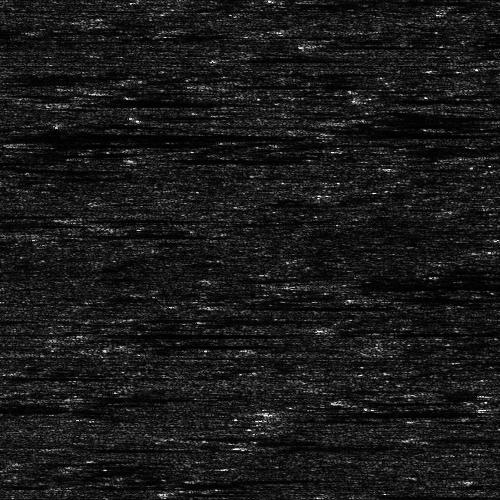rock: (269, 279, 374, 286), (0, 128, 48, 141), (431, 150, 494, 159), (318, 114, 359, 125), (30, 446, 93, 451), (274, 410, 327, 415), (263, 443, 294, 448), (84, 330, 115, 333), (89, 99, 100, 104)
shadow: (0, 128, 331, 141), (339, 114, 474, 125), (322, 279, 500, 286), (301, 410, 432, 415), (279, 443, 408, 448), (100, 330, 262, 333), (62, 446, 141, 451), (463, 150, 500, 159), (95, 99, 135, 104)
